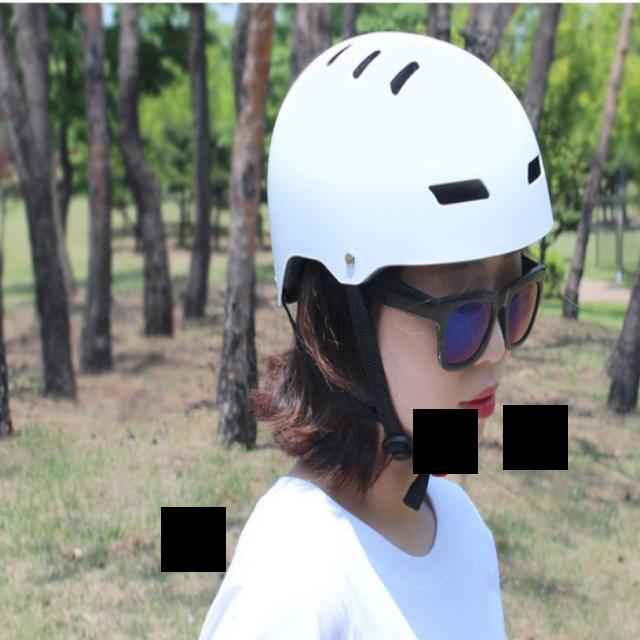Helmet: (265, 30, 557, 461)
